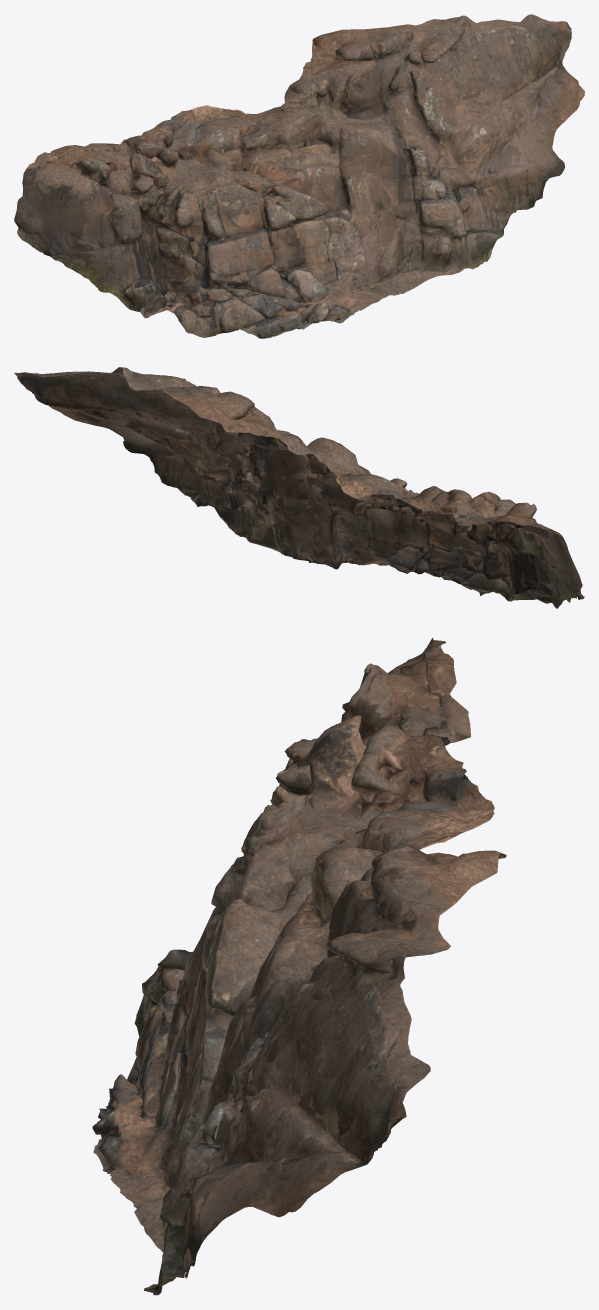
Rendered from ravine-outcrop.glb.
The picture shows the model from 3 angles, top to bottom: view 1: azimuth 30°, elevation 25°; view 2: azimuth 150°, elevation 25°; view 3: azimuth 270°, elevation 25°; orthographic projection. The views are drawn at different scales.
Visible parts, largest first — view 1: Ravine_Outcrop_High, Ravine_Outcrop_LOD; view 2: Ravine_Outcrop_LOD, Ravine_Outcrop_High; view 3: Ravine_Outcrop_High, Ravine_Outcrop_LOD.
Part boxes in pixels (box(x1,y1,x2,y2)): Ravine_Outcrop_High: box(14, 14, 584, 338); Ravine_Outcrop_LOD: box(15, 18, 584, 338); Ravine_Outcrop_LOD: box(14, 367, 583, 608); Ravine_Outcrop_High: box(14, 367, 584, 608); Ravine_Outcrop_High: box(92, 638, 506, 1295); Ravine_Outcrop_LOD: box(93, 638, 505, 1294).
Size of the model in its own units: 20.22 by 7.19 by 6.6.
1 material, 1 textured.
